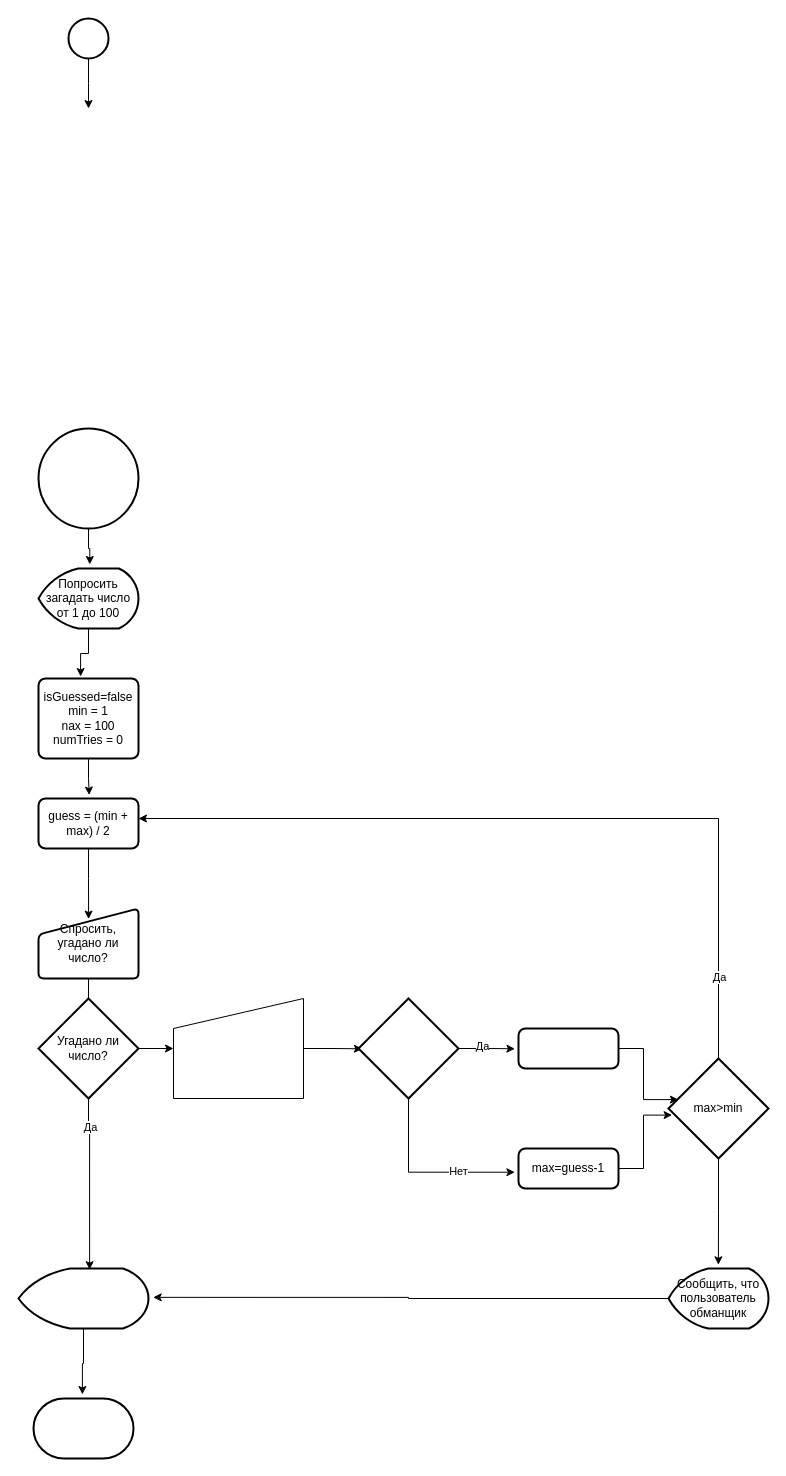
The diagram is 786 pixels wide and 1476 high, and some of its shapes have lost their labels. The box of each missing label's shape, as (x1, y1, x2, y2) in pixels:
min=guess+1: (517, 1027, 619, 1069)
Вывести num tries и попрощаться с пользователем: (17, 1267, 149, 1329)
Спросить, больше ли или меньше число: (172, 998, 304, 1098)
Число пользователя больше?: (357, 997, 459, 1099)
